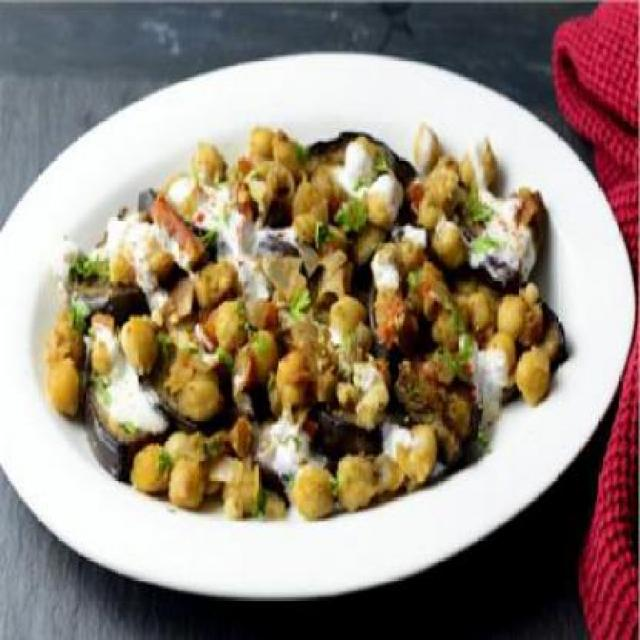eggplant: (302, 339, 487, 470), (89, 318, 242, 476), (67, 179, 210, 318), (455, 178, 550, 279), (306, 127, 412, 210), (500, 290, 566, 412)
hummus: (54, 113, 572, 522)
